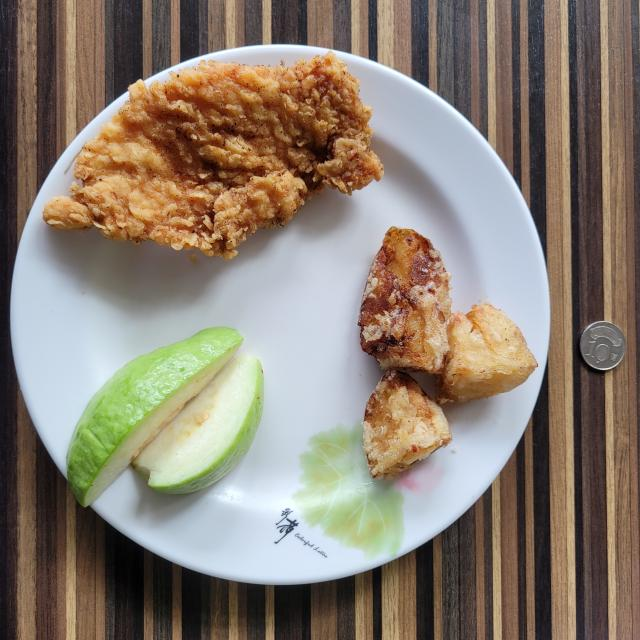coin: (580, 321, 626, 370)
fried chicken cutlet: (42, 54, 382, 259)
fried potato: (359, 228, 538, 479)
guava -sliced-: (68, 328, 264, 506)
